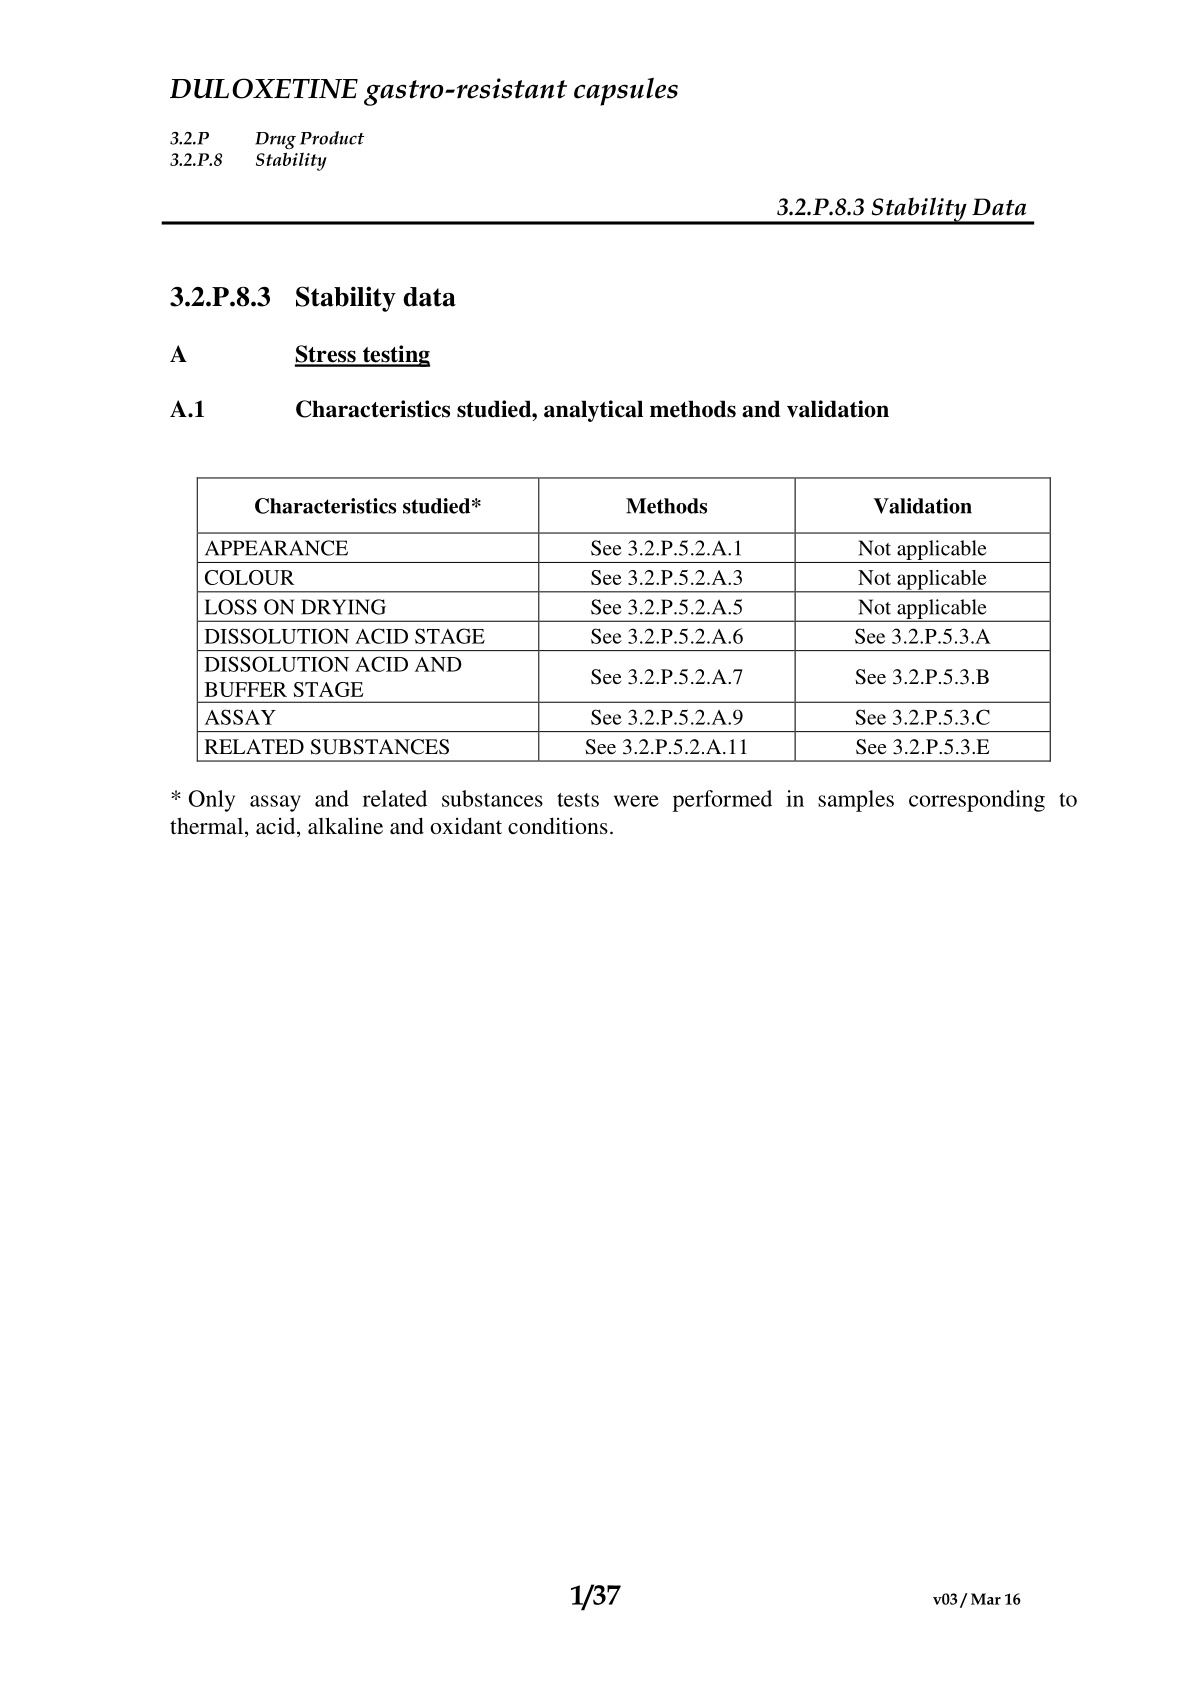full_lined: (196, 475, 1051, 763)
